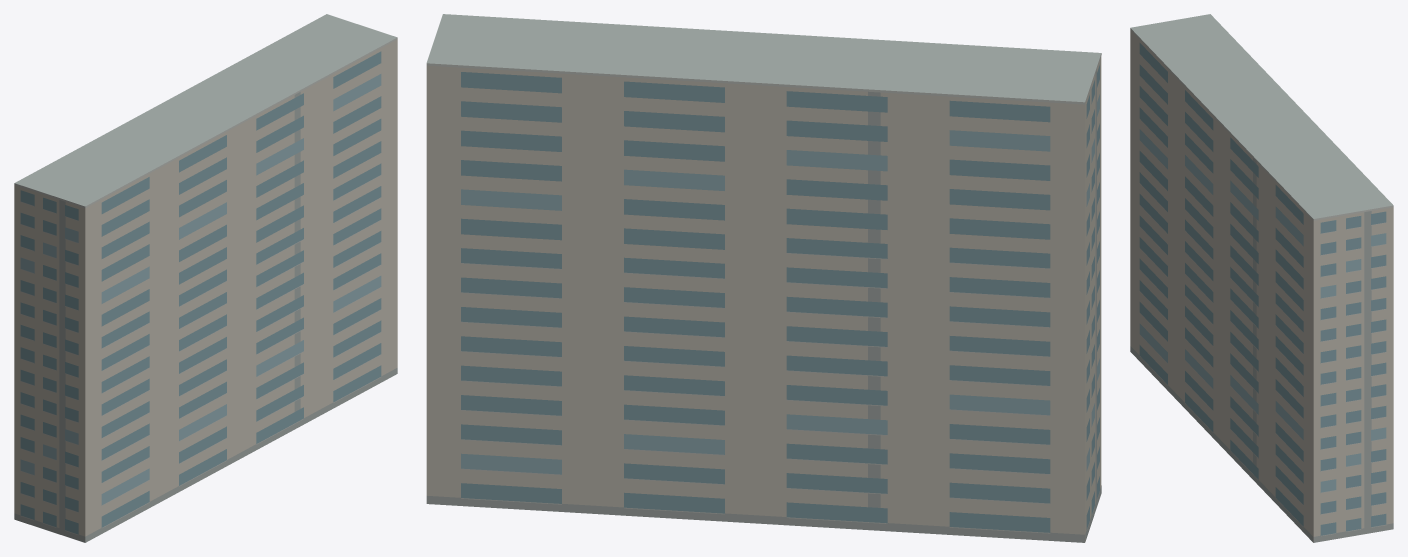
File: residential-d4f31016-f4da-4a78-8e71-02bfe7d63ec6.glb
The picture shows the model from 3 angles, left to right: view 1: azimuth 30°, elevation 25°; view 2: azimuth 150°, elevation 25°; view 3: azimuth 270°, elevation 25°; orthographic projection. The views are drawn at different scales.
Parts seen in each view (by area): view 1: residential-d4f31016-f4da-4a78-8e71-02bfe7d63ec6.tmp; view 2: residential-d4f31016-f4da-4a78-8e71-02bfe7d63ec6.tmp; view 3: residential-d4f31016-f4da-4a78-8e71-02bfe7d63ec6.tmp.
Boxes of the visible parts, box(x1,y1,x2,y2) form: residential-d4f31016-f4da-4a78-8e71-02bfe7d63ec6.tmp: box(14, 14, 397, 542); residential-d4f31016-f4da-4a78-8e71-02bfe7d63ec6.tmp: box(426, 14, 1101, 542); residential-d4f31016-f4da-4a78-8e71-02bfe7d63ec6.tmp: box(1130, 14, 1393, 542).
Bounding box in the file's own units: 62.16 × 45.75 × 33.75.
